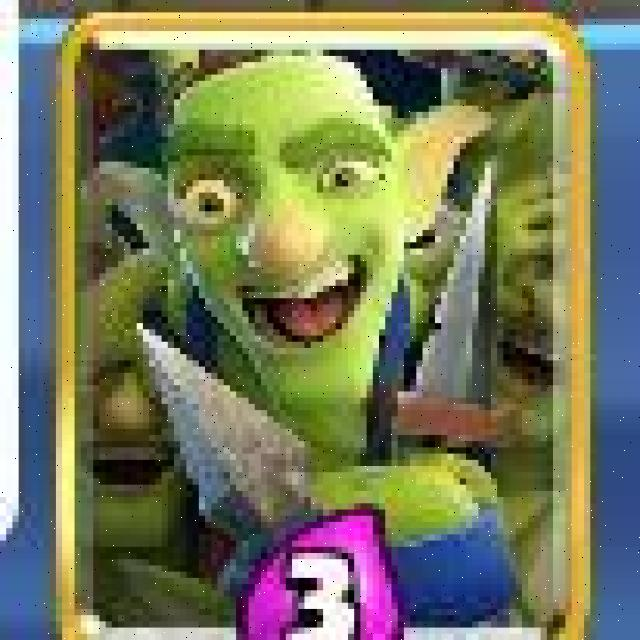Goblin_Gang: (55, 13, 594, 640)
